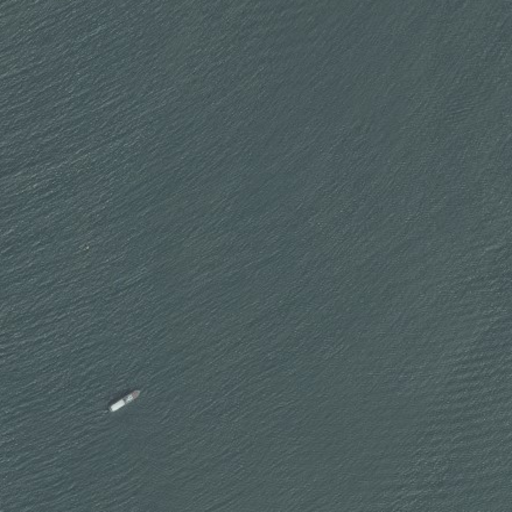ship: (103, 386, 146, 416)
